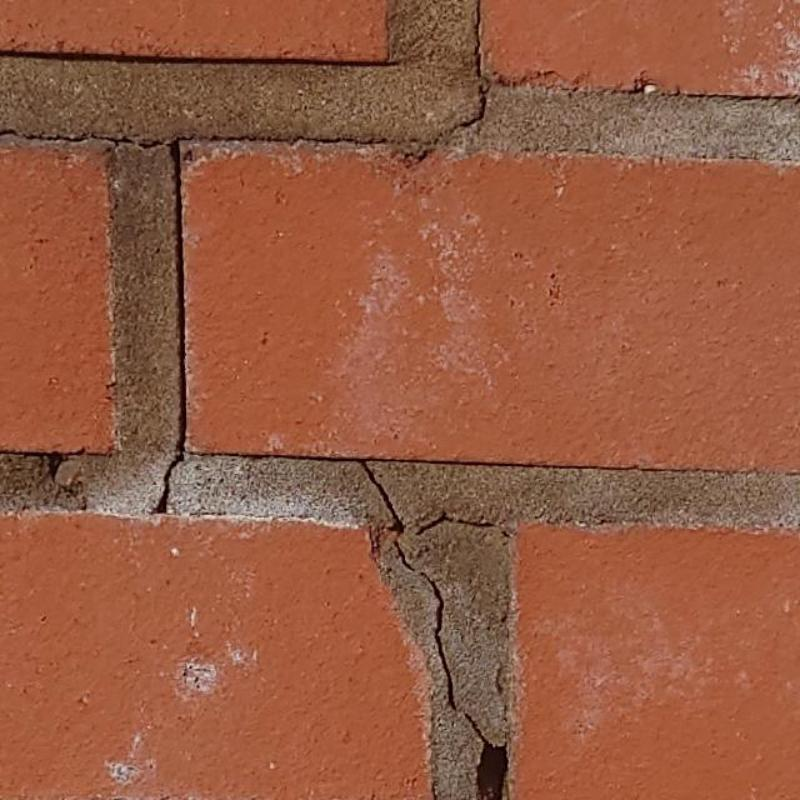pothole: (192, 452, 404, 536), (149, 142, 185, 515), (1, 127, 399, 150), (452, 1, 494, 127), (419, 569, 455, 709), (478, 746, 508, 799), (415, 511, 454, 535), (393, 539, 417, 572), (466, 714, 489, 747), (458, 514, 493, 528)
